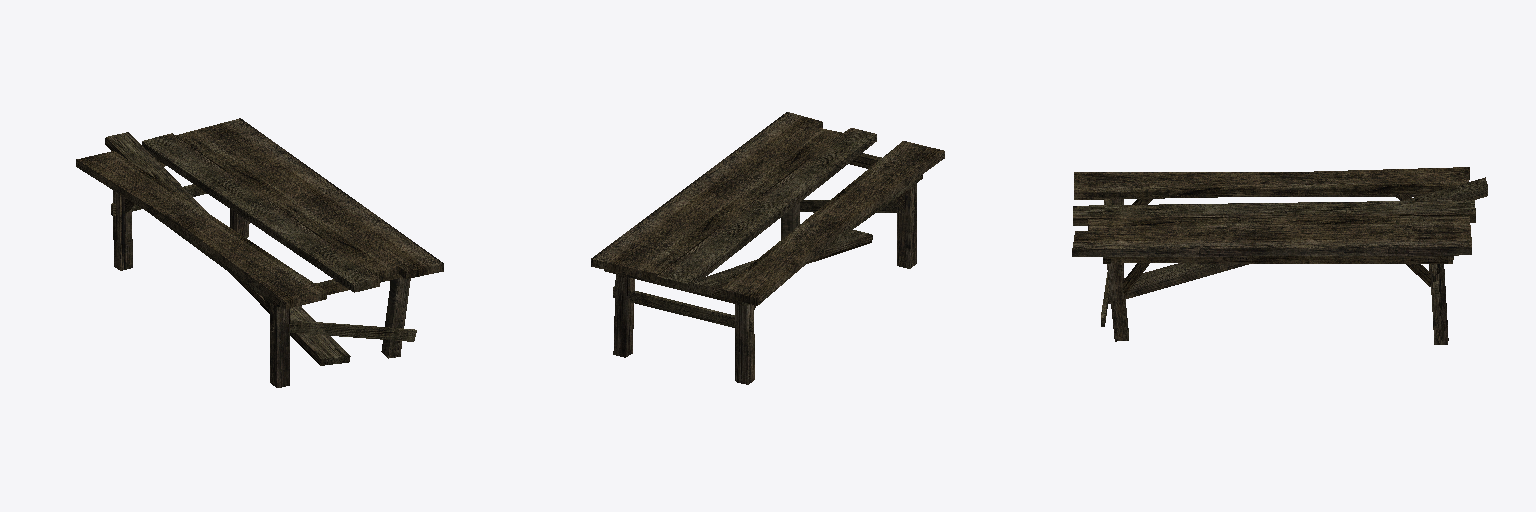
3 renders of one model, left to right at view 1: azimuth 30°, elevation 25°; view 2: azimuth 150°, elevation 25°; view 3: azimuth 270°, elevation 25°, orthographic.
Visible parts, largest first — view 1: mesh0; view 2: mesh0; view 3: mesh0.
Part boxes in pixels (bbox=[...]): mesh0: bbox=[76, 118, 443, 387]; mesh0: bbox=[591, 112, 944, 384]; mesh0: bbox=[1072, 167, 1487, 344].
Bounding box in the file's own units: 1.56 × 0.9756 × 3.31.
Materials: 1 (1 with a texture image).